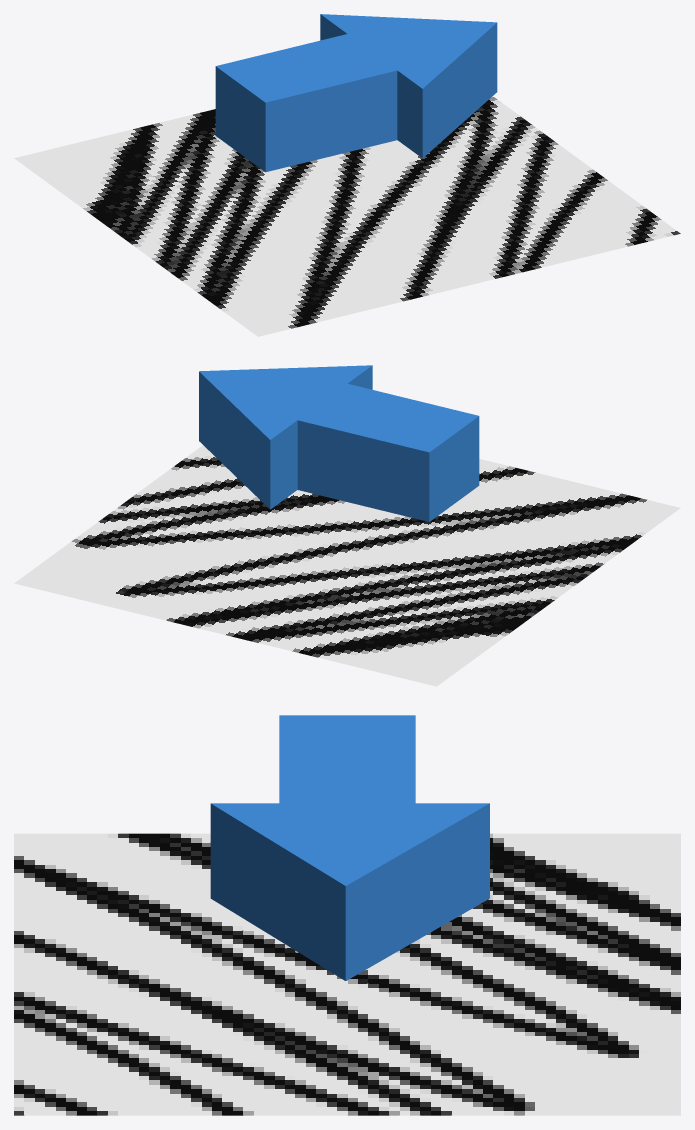
Rendered from Arrow.fbx.
The picture shows the model from 3 angles, top to bottom: view 1: azimuth 30°, elevation 25°; view 2: azimuth 150°, elevation 25°; view 3: azimuth 270°, elevation 25°; orthographic projection. The views are drawn at different scales.
Visible parts, largest first — view 1: Plane, Cube; view 2: Plane, Cube; view 3: Plane, Cube.
Part boxes in pixels (bbox=[...]): Plane: bbox=[14, 96, 680, 336]; Cube: bbox=[215, 14, 497, 172]; Plane: bbox=[14, 445, 680, 686]; Cube: bbox=[199, 365, 479, 521]; Plane: bbox=[14, 833, 680, 1115]; Cube: bbox=[210, 715, 489, 980].
Bounding box in the file's own units: 978 × 304 × 978.
Materials: 2 (1 with a texture image).
